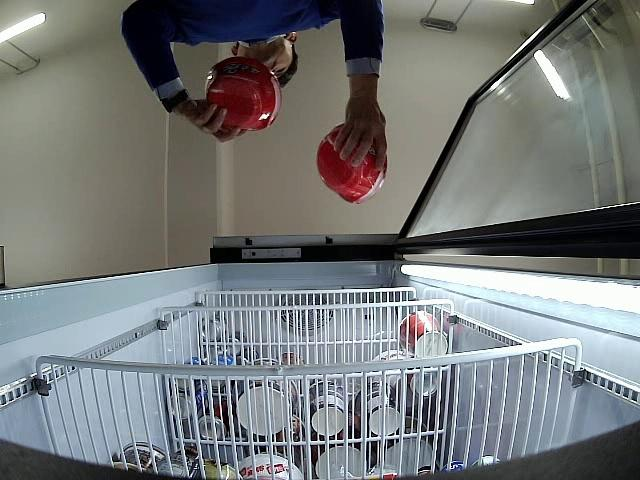00_hand: (328, 85, 388, 171), (181, 99, 249, 142)
10_wangTtukkeong: (203, 57, 283, 133), (317, 123, 387, 204)
